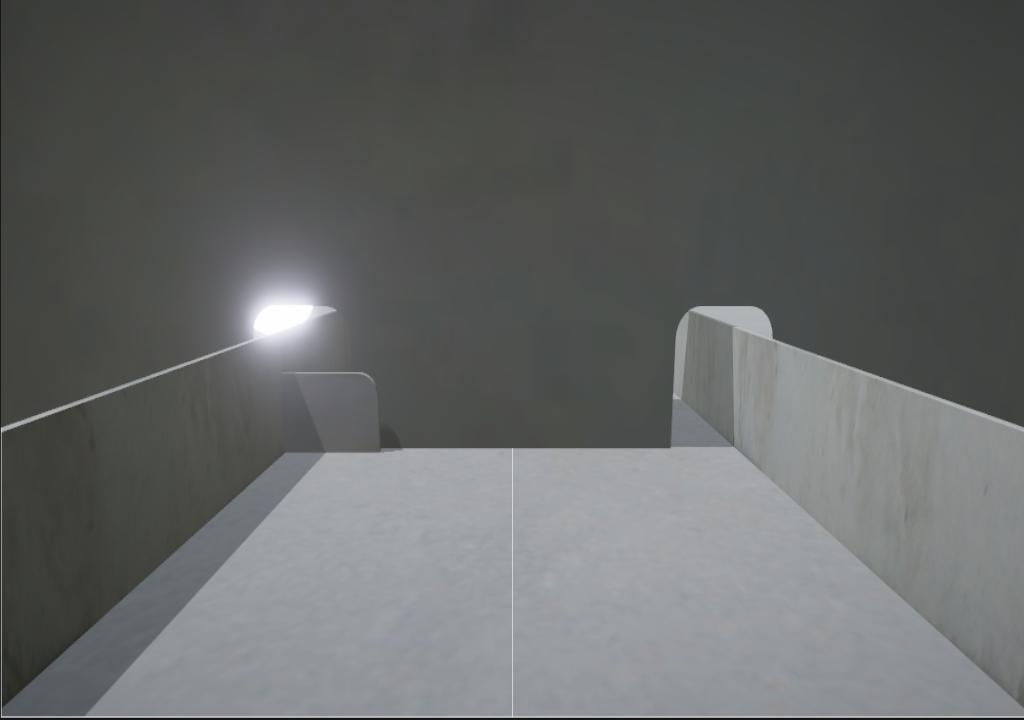fillet_yong_jeop_jang: (383, 442, 689, 459)
plate_CP05: (283, 371, 382, 453)
